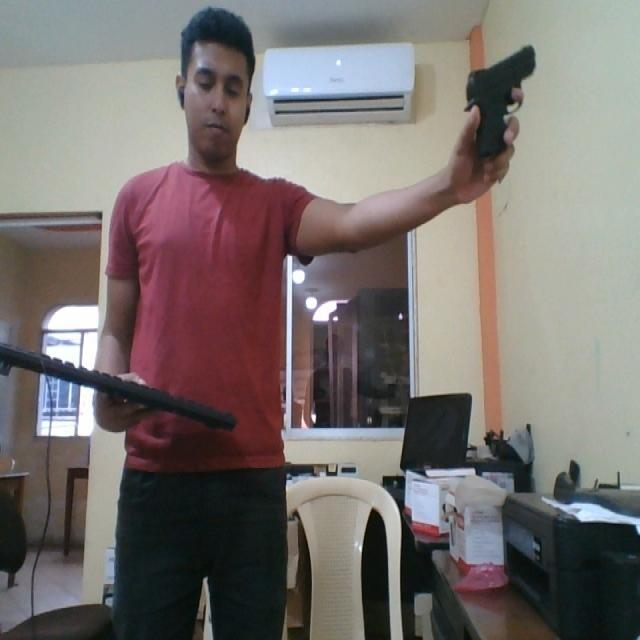weapon: (460, 41, 540, 162)
